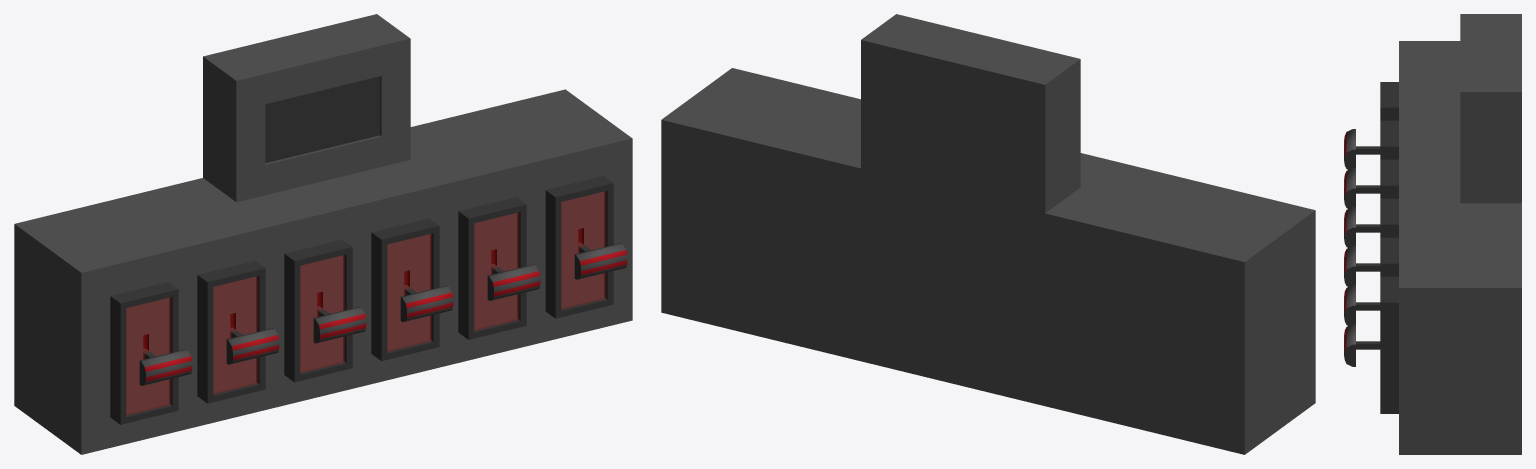
File: Bridge.fbx
3 views of the same model, side by side, from view 1: azimuth 30°, elevation 25°; view 2: azimuth 150°, elevation 25°; view 3: azimuth 270°, elevation 25° (orthographic). The views are drawn at different scales.
Visible parts, largest first — view 1: Base, Slot1, Slot3, Slot2, Slot4, Slot5, Slot6, Door, IN4, IN2, IN6, IN1 (+8 smaller); view 2: Base; view 3: Base, Slot6, Slot2, Slot3, Slot4, Slot5, Slot1, Slider Handle 6, Slider Handle 3, Slider Handle 4, Slider Handle 1, Slider Handle 2 (+1 smaller).
Boxes of the visible parts, x1,y1,x2,y2 form: Base: (14, 14, 632, 454); Slot1: (110, 282, 178, 424); Slot3: (284, 239, 352, 382); Slot2: (197, 261, 265, 403); Slot4: (371, 218, 439, 360); Slot5: (458, 197, 526, 339); Slot6: (545, 176, 613, 318); Door: (265, 76, 379, 163); IN4: (388, 234, 431, 351); IN2: (214, 276, 257, 393); IN6: (562, 192, 605, 308); IN1: (127, 298, 170, 414); Base: (661, 14, 1315, 454); Base: (1399, 14, 1521, 454); Slot6: (1380, 276, 1398, 413); Slot2: (1380, 120, 1398, 159); Slot3: (1380, 159, 1398, 198); Slot4: (1380, 198, 1398, 237); Slot5: (1380, 237, 1398, 276); Slot1: (1380, 82, 1398, 120); Slider Handle 6: (1344, 324, 1380, 366); Slider Handle 3: (1344, 207, 1380, 247); Slider Handle 4: (1344, 246, 1380, 286); Slider Handle 1: (1344, 129, 1380, 169); Slider Handle 2: (1344, 168, 1380, 208).
Size of the model in its own units: 1.9 by 1 by 0.5784.
